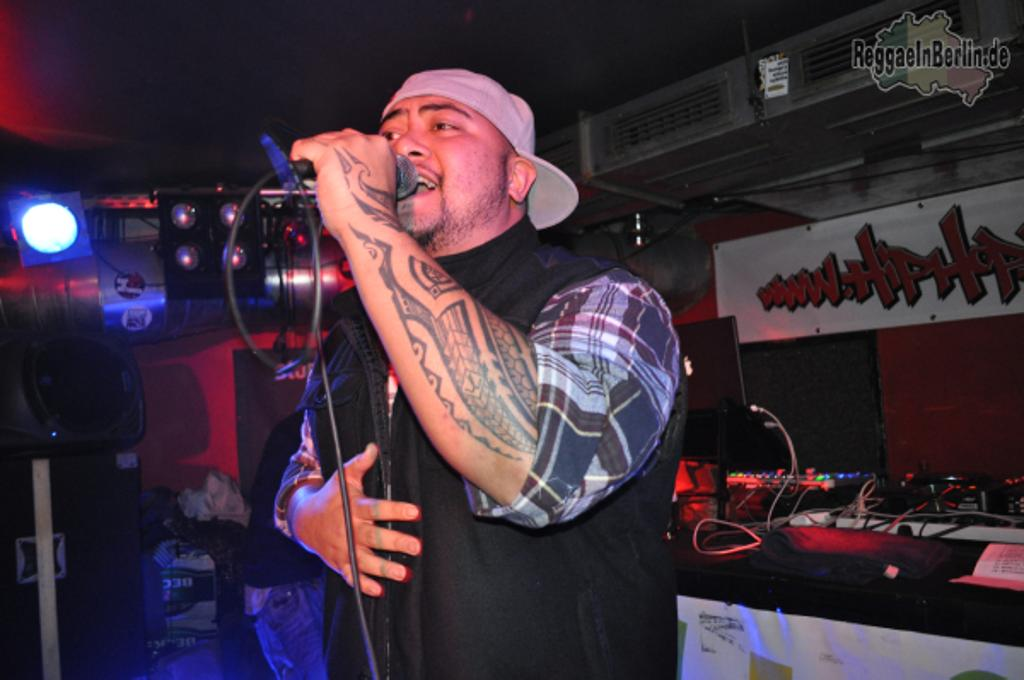face: (380, 88, 510, 232)
